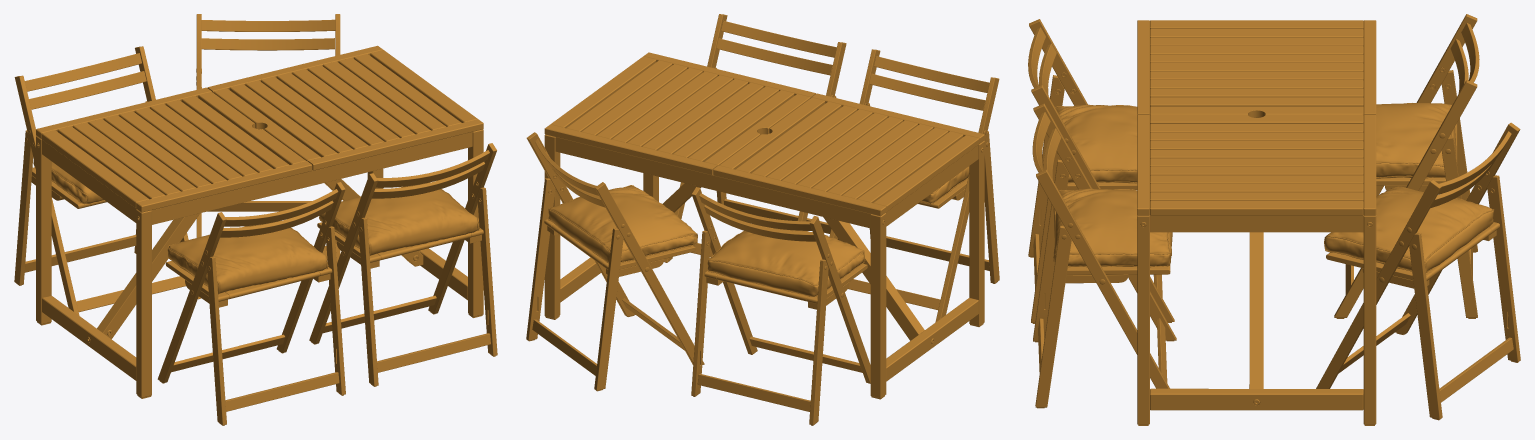
The model's file is tablechair.glb.
3 views of the same model, side by side, from view 1: azimuth 30°, elevation 25°; view 2: azimuth 150°, elevation 25°; view 3: azimuth 270°, elevation 25° (orthographic). The views are drawn at different scales.
Parts seen in each view (by area): view 1: Table, Chair_04, Chair_03, Chair_01, Pillow_04, Pillow_03, Chair_02, Pillow_01; view 2: Table, Chair_01, Chair_02, Chair_04, Pillow_01, Pillow_02, Chair_03, Pillow_04; view 3: Table, Chair_02, Chair_03, Chair_01, Pillow_02, Chair_04, Pillow_03, Pillow_04, Pillow_01.
Boxes of the visible parts, <box> form: Table: <box>36,45,483,398</box>; Chair_04: <box>157,182,345,425</box>; Chair_03: <box>309,143,497,386</box>; Chair_01: <box>14,46,201,315</box>; Pillow_04: <box>167,221,328,294</box>; Pillow_03: <box>319,182,479,255</box>; Chair_02: <box>196,14,340,262</box>; Pillow_01: <box>33,159,103,204</box>; Table: <box>544,52,984,399</box>; Chair_01: <box>691,187,870,425</box>; Chair_02: <box>526,132,704,391</box>; Chair_04: <box>829,49,999,322</box>; Pillow_01: <box>707,224,865,296</box>; Pillow_02: <box>548,185,697,263</box>; Chair_03: <box>664,14,846,262</box>; Pillow_04: <box>920,166,969,204</box>; Table: <box>1137,20,1376,425</box>; Chair_02: <box>1316,122,1520,420</box>; Chair_03: <box>1032,103,1176,408</box>; Chair_01: <box>1334,14,1479,318</box>; Pillow_02: <box>1324,186,1494,274</box>; Chair_04: <box>1028,19,1174,323</box>; Pillow_03: <box>1053,188,1172,267</box>; Pillow_04: <box>1055,104,1137,183</box>; Pillow_01: <box>1376,103,1456,178</box>.
Bounding box in the file's own units: 19.51 × 11.41 × 21.5.
